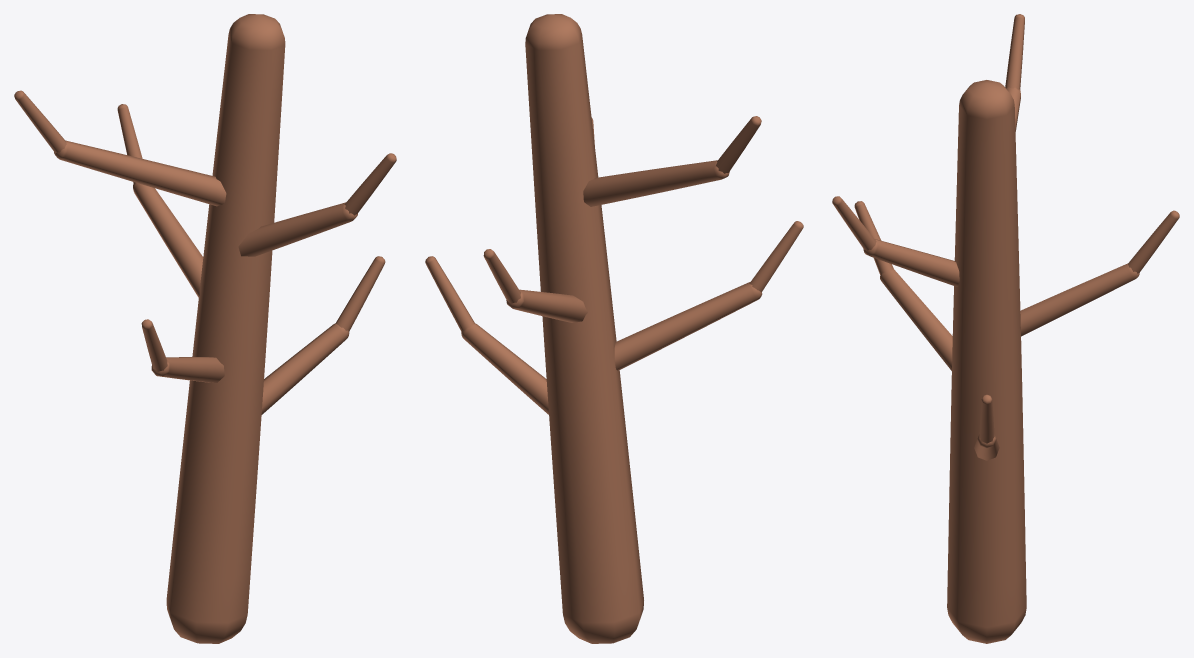
Rendered from dead_tree_snag.glb.
3 views of the same model, side by side, from view 1: azimuth 30°, elevation 25°; view 2: azimuth 150°, elevation 25°; view 3: azimuth 270°, elevation 25° (orthographic). The views are drawn at different scales.
Parts seen in each view (by area): view 1: dead-tree-snag; view 2: dead-tree-snag; view 3: dead-tree-snag.
Boxes of the visible parts, left/top/right/bottom form: dead-tree-snag: left=14, top=14, right=396, bottom=643; dead-tree-snag: left=425, top=14, right=803, bottom=643; dead-tree-snag: left=832, top=14, right=1179, bottom=643.
Size of the model in its own units: 2.12 by 3.54 by 1.92.
